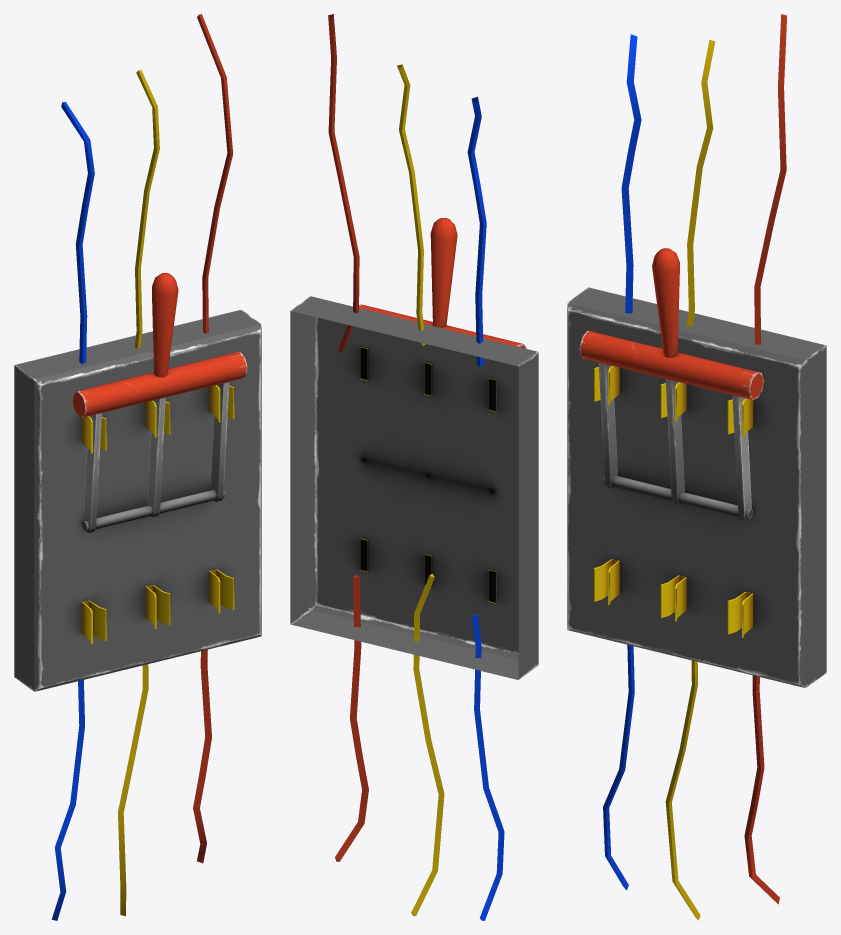
Rendered from Lever_02.FBX.
The picture shows the model from 3 angles, left to right: view 1: azimuth 30°, elevation 25°; view 2: azimuth 150°, elevation 25°; view 3: azimuth 330°, elevation 25°; orthographic projection. The views are drawn at different scales.
Parts seen in each view (by area): view 1: Lever_02, Lever_02_part; view 2: Lever_02, Lever_02_part; view 3: Lever_02, Lever_02_part.
Boxes of the visible parts, x1=… form: Lever_02: x1=14, y1=14, x2=261, y2=920; Lever_02_part: x1=72, y1=273, x2=247, y2=532; Lever_02: x1=290, y1=14, x2=538, y2=920; Lever_02_part: x1=359, y1=217, x2=526, y2=348; Lever_02: x1=567, y1=14, x2=826, y2=920; Lever_02_part: x1=579, y1=248, x2=763, y2=520.
Bounding box in the file's own units: 8.86 × 32.83 × 3.11.
1 material, 1 textured.
